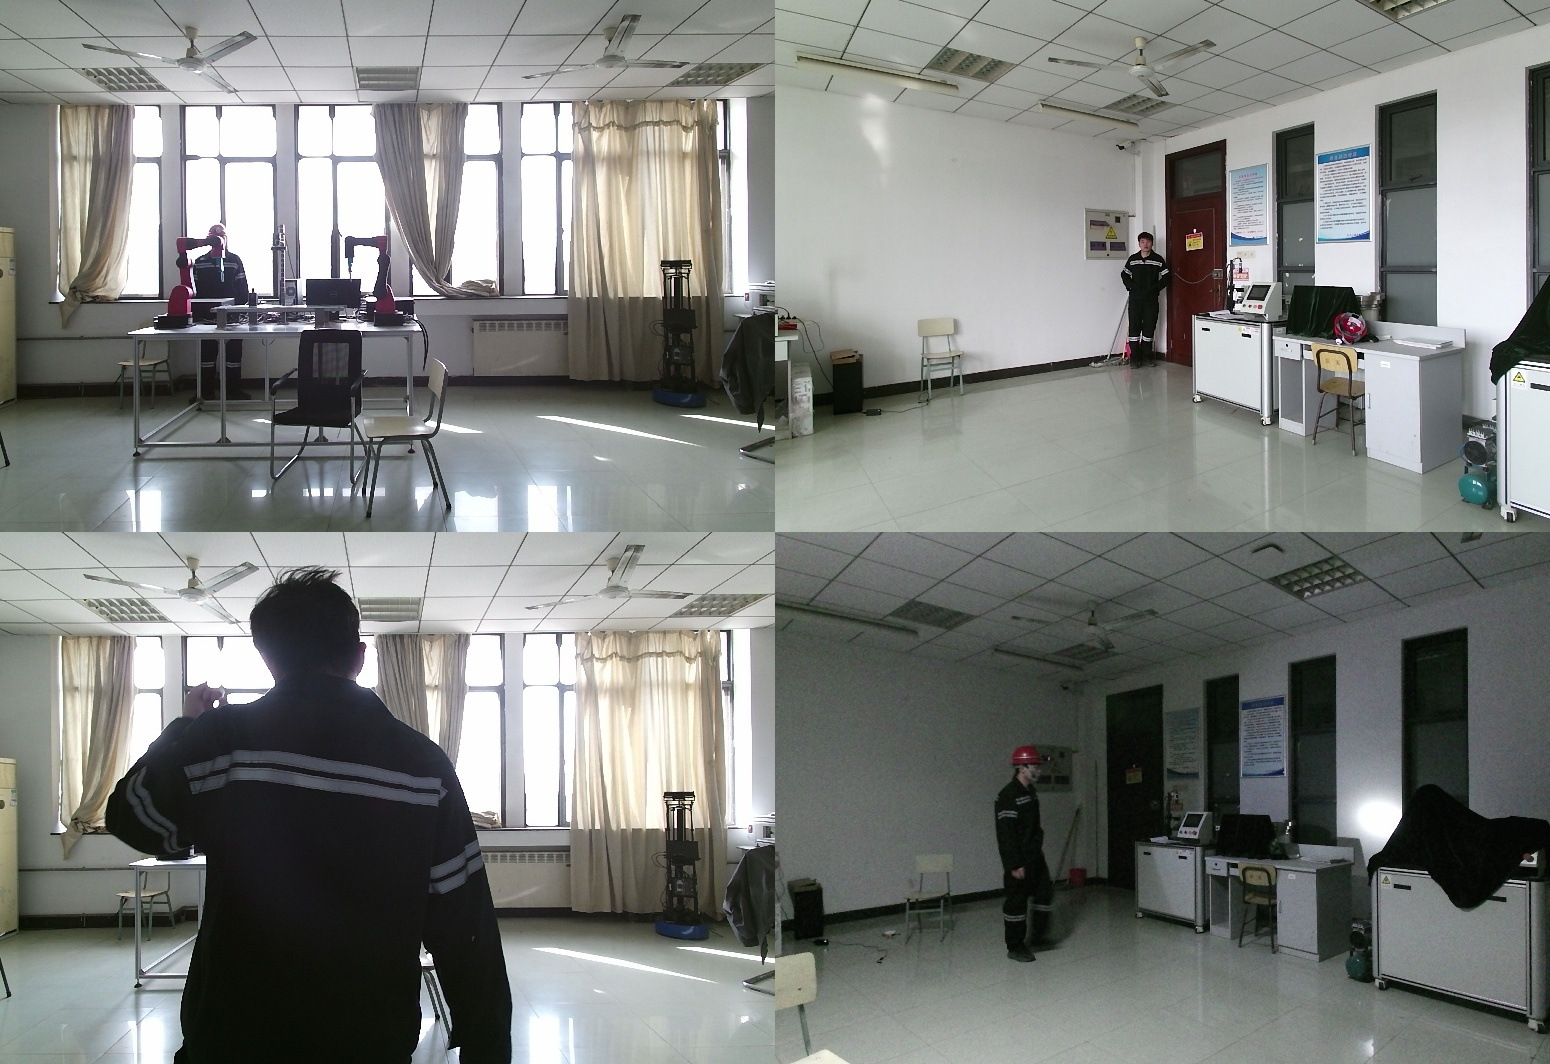person: (112, 573, 511, 1064), (986, 745, 1051, 972), (193, 224, 249, 404), (1119, 232, 1172, 370)
